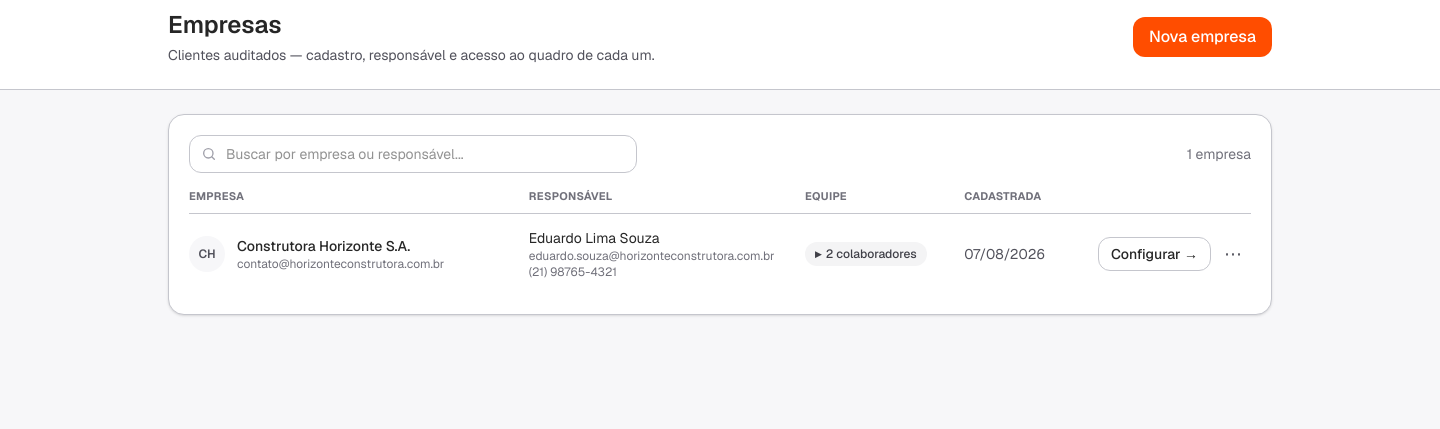
EmpresasClient › abre o menu de ações com Editar e Excluir, e fecha no Escape
Click the button named "Mais ações para Construtora Horizonte" at coordinates (1233, 254), box [1215,236,1251,272]
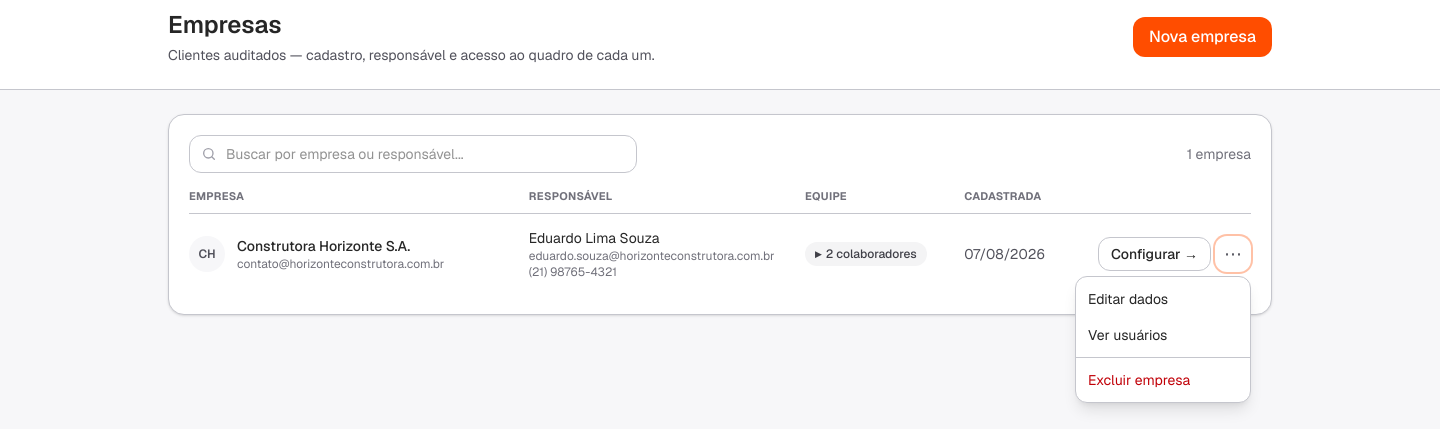
Check: the menu item "Editar dados" is shown, box [1076,281,1250,317]
Check: the menu item "Excluir empresa" is shown, box [1076,362,1250,398]
Press Escape
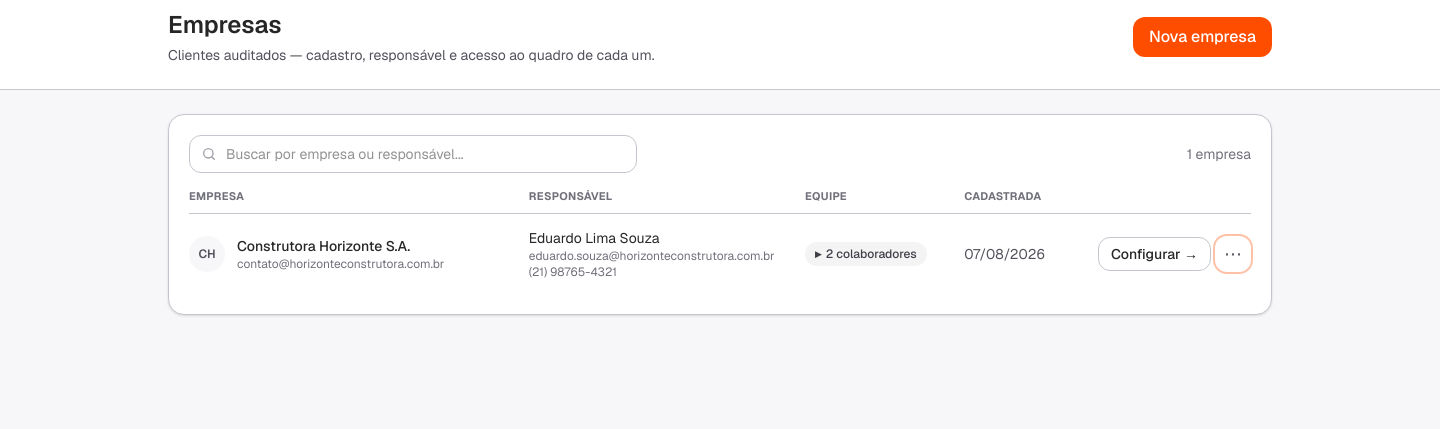
Check: the menu is gone
